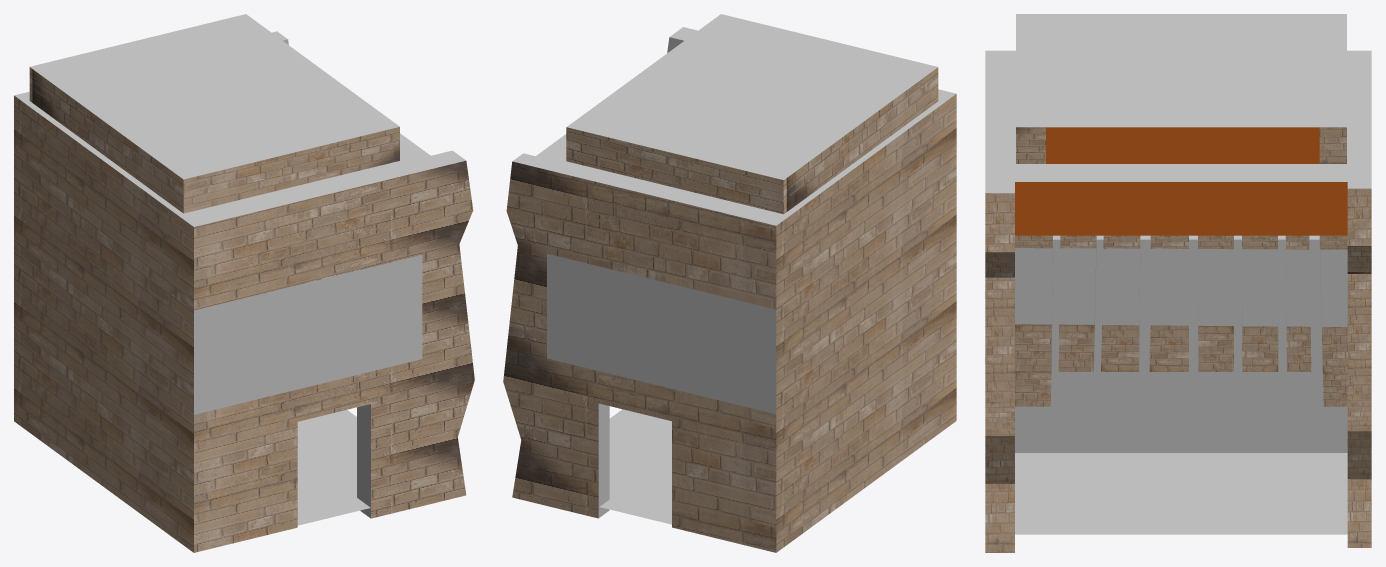
File: library.fbx
3 views of the same model, side by side, from view 1: azimuth 30°, elevation 25°; view 2: azimuth 150°, elevation 25°; view 3: azimuth 270°, elevation 25° (orthographic). The views are drawn at different scales.
Visible parts, largest first — view 1: Cube; view 2: Cube; view 3: Cube.
Boxes of the visible parts, left/top/right/bottom form: Cube: left=14, top=14, right=474, bottom=552; Cube: left=503, top=14, right=956, bottom=552; Cube: left=985, top=14, right=1371, bottom=552.
Size of the model in its own units: 541 by 683 by 600.
